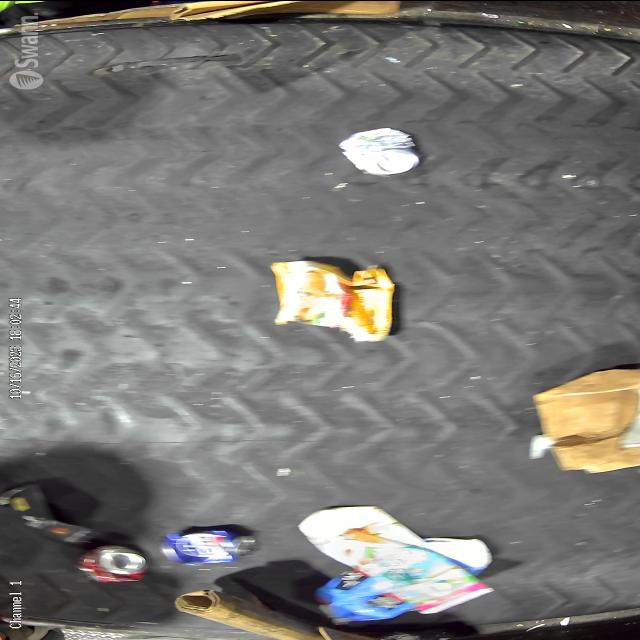can: (339, 126, 422, 174), (160, 526, 258, 566), (77, 544, 149, 582)
non_white_jug: (296, 504, 492, 614), (314, 535, 493, 623), (272, 258, 396, 340)
